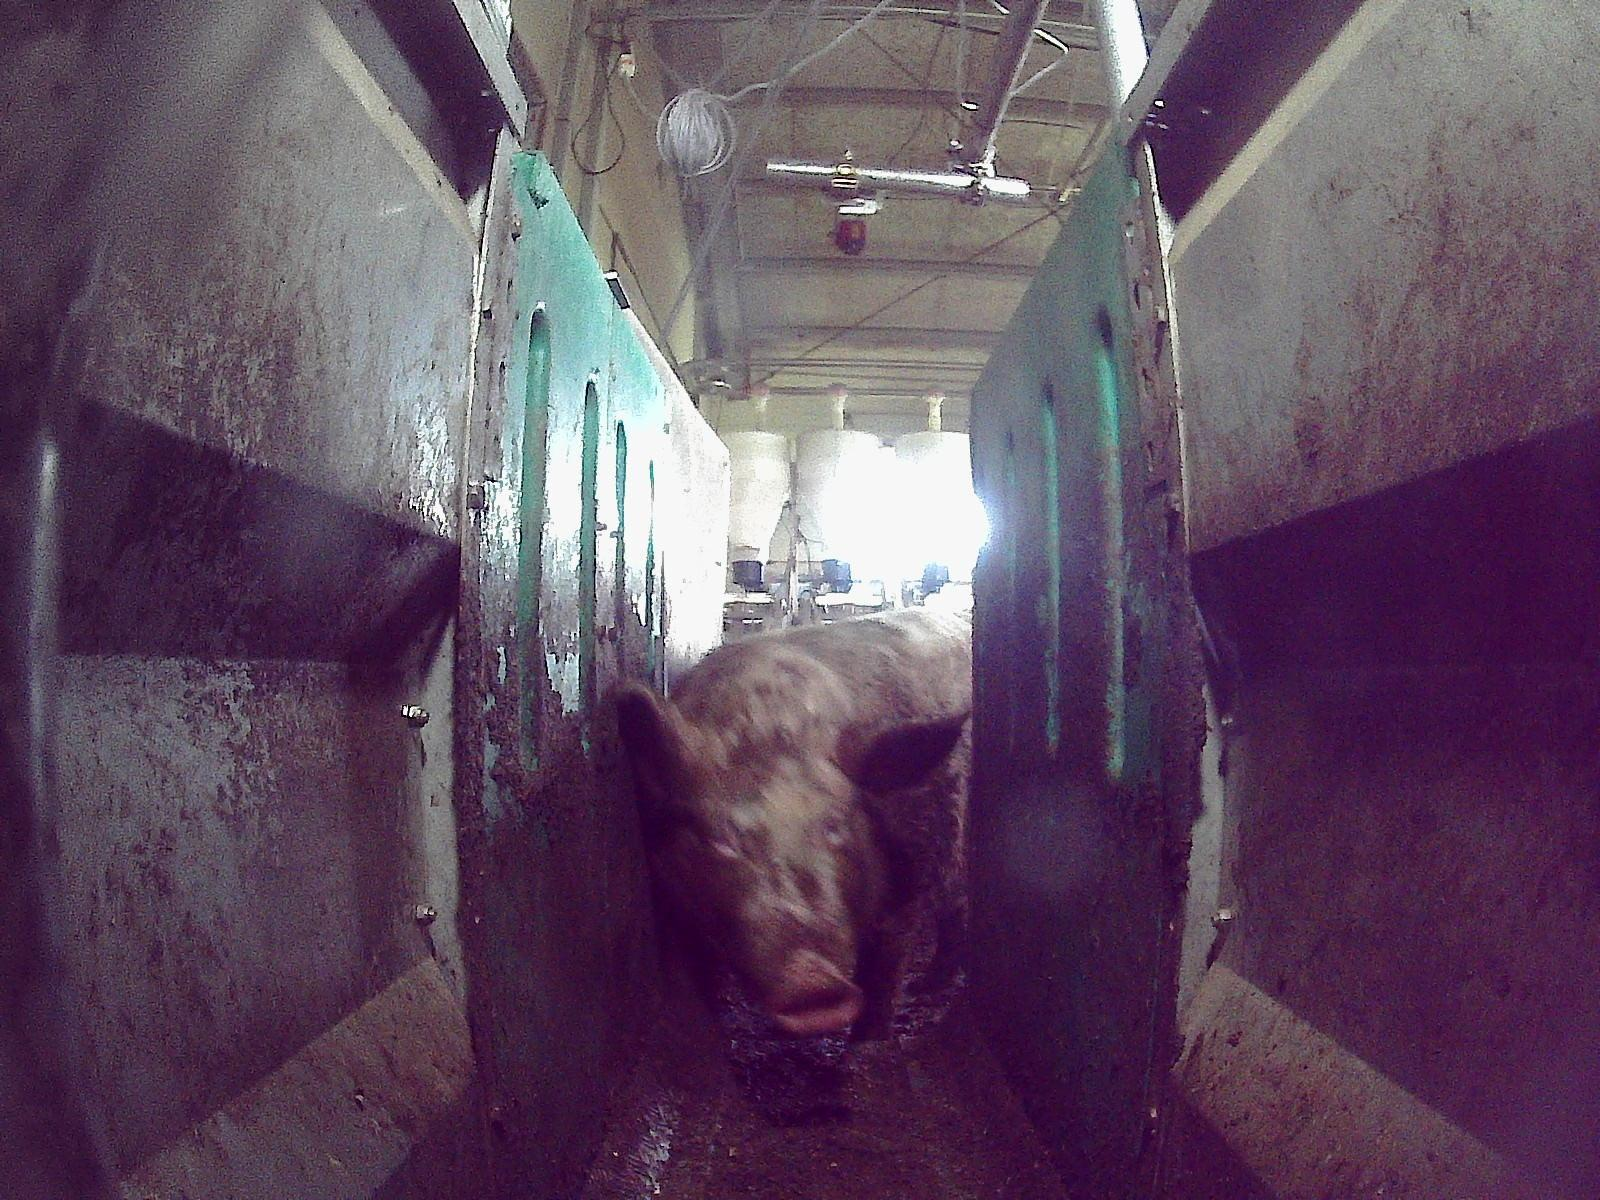Face: (674, 720, 891, 1032)
